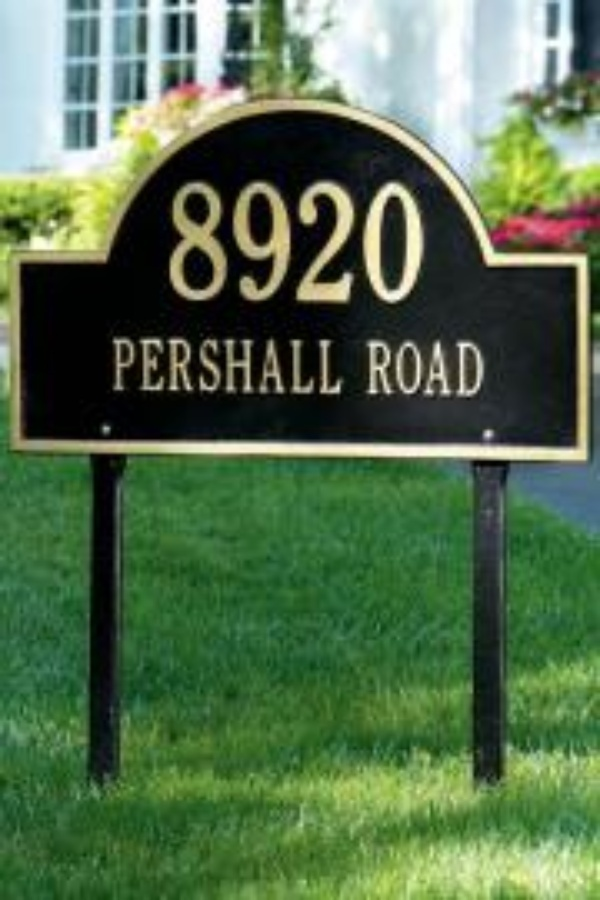text: (177, 177, 192, 304), (193, 177, 208, 304), (209, 177, 224, 304), (225, 177, 240, 304), (241, 177, 256, 304), (257, 177, 272, 304), (273, 177, 288, 304), (289, 177, 304, 304), (305, 177, 320, 304), (321, 177, 336, 304), (337, 177, 352, 304), (353, 177, 368, 304), (369, 177, 384, 304), (385, 177, 400, 304), (401, 177, 416, 304), (167, 177, 176, 304), (369, 337, 384, 397), (385, 337, 400, 397), (401, 337, 416, 397), (417, 337, 432, 397), (433, 337, 448, 397), (449, 337, 464, 397), (465, 337, 480, 397), (417, 177, 424, 304), (113, 337, 128, 394), (129, 337, 144, 394), (145, 337, 160, 394), (161, 337, 176, 394), (177, 337, 192, 394), (193, 337, 208, 394), (209, 337, 224, 394), (225, 337, 240, 394), (241, 337, 256, 394), (257, 337, 272, 394), (273, 337, 288, 394), (289, 337, 304, 394), (305, 337, 320, 394), (321, 337, 336, 394), (107, 337, 112, 394), (364, 337, 368, 397), (337, 337, 341, 394), (481, 337, 484, 397)
